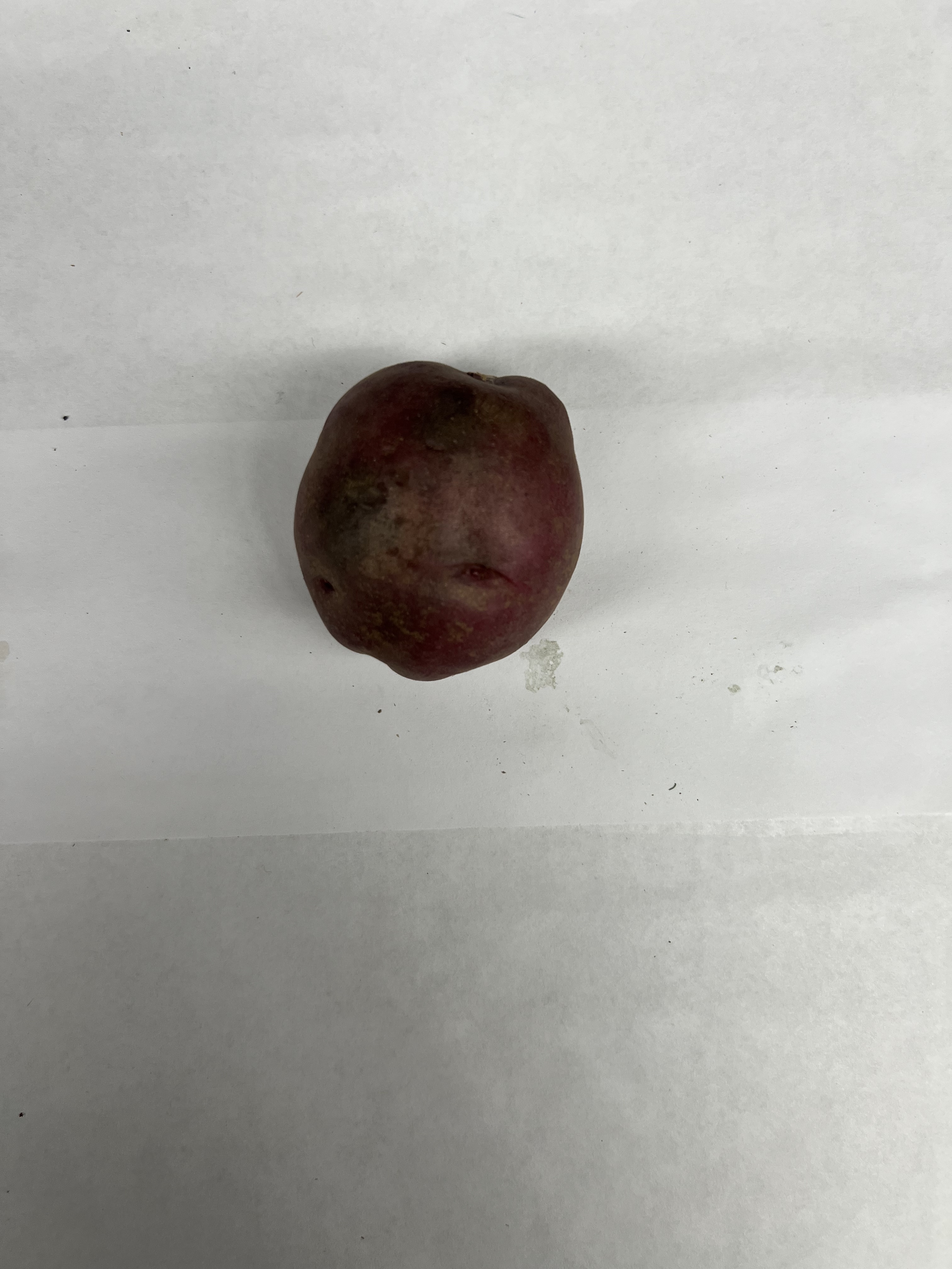produce: (284, 354, 590, 684)
